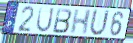2: (17, 5, 36, 33)
6: (109, 11, 125, 38)
B: (52, 8, 73, 34)
H: (69, 9, 93, 36)
U: (88, 8, 111, 38), (35, 6, 56, 34)
